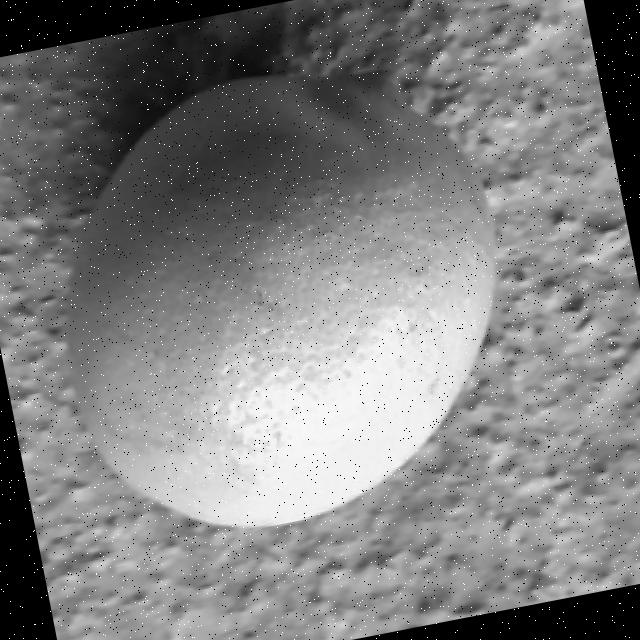Ripe: (19, 31, 552, 562)
